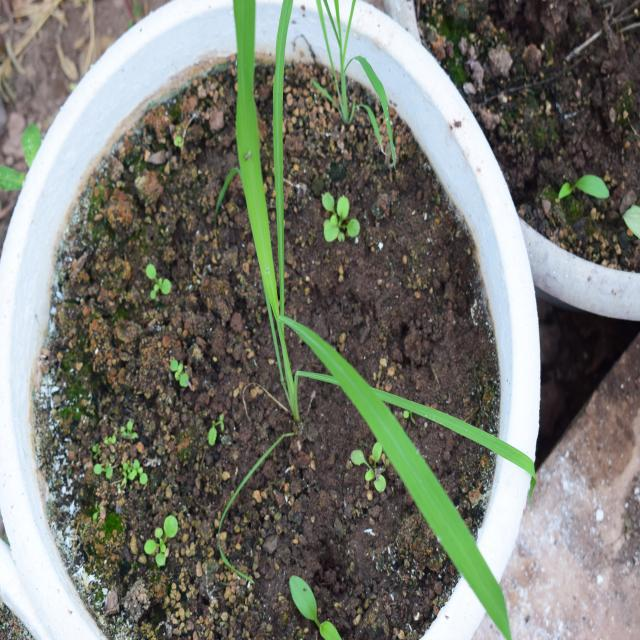barnyard_grass: (214, 33, 521, 600)
